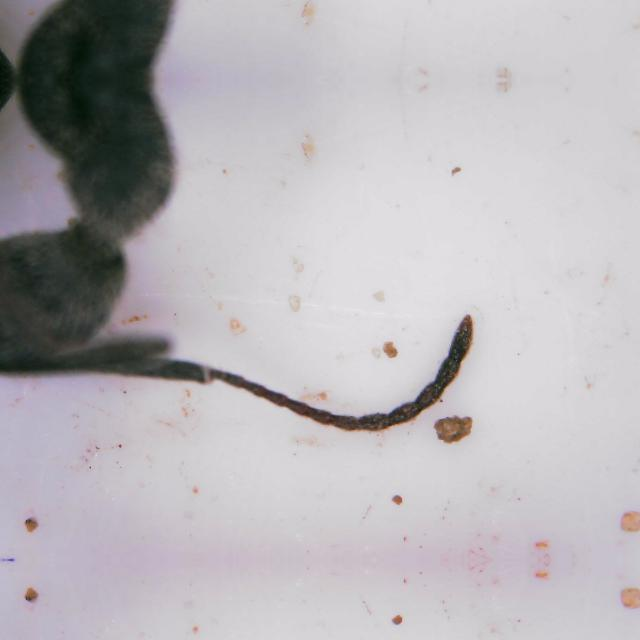Apheanogaster: (0, 80, 524, 474), (0, 0, 524, 80)
